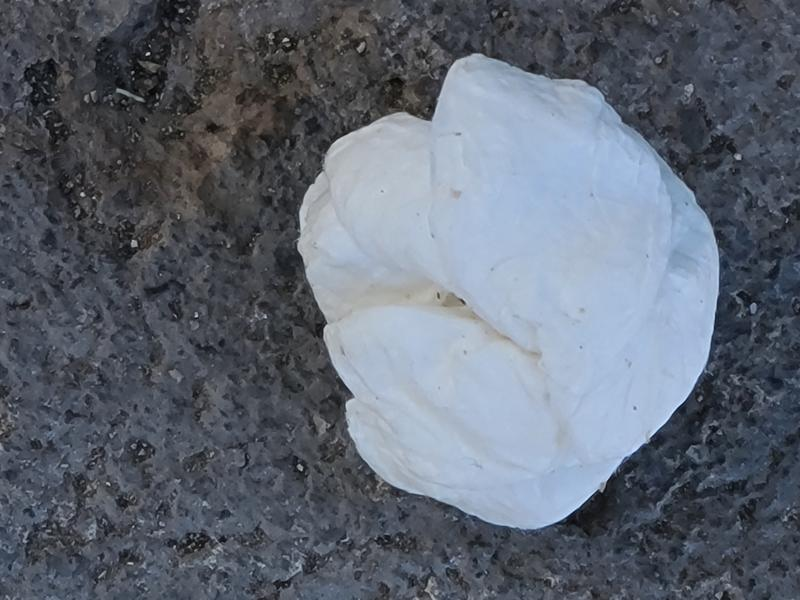papel: (296, 54, 721, 533)
